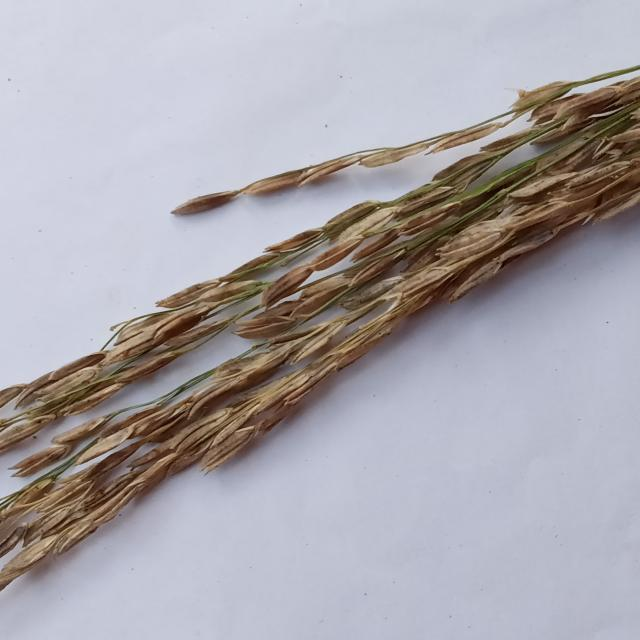Neck_Blast: (0, 127, 640, 599), (0, 51, 640, 463)
